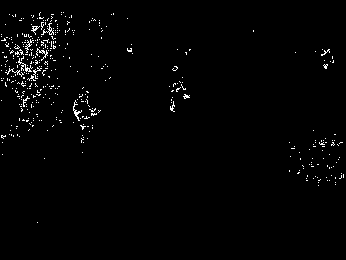person: (71, 87, 102, 148), (167, 63, 193, 115)
